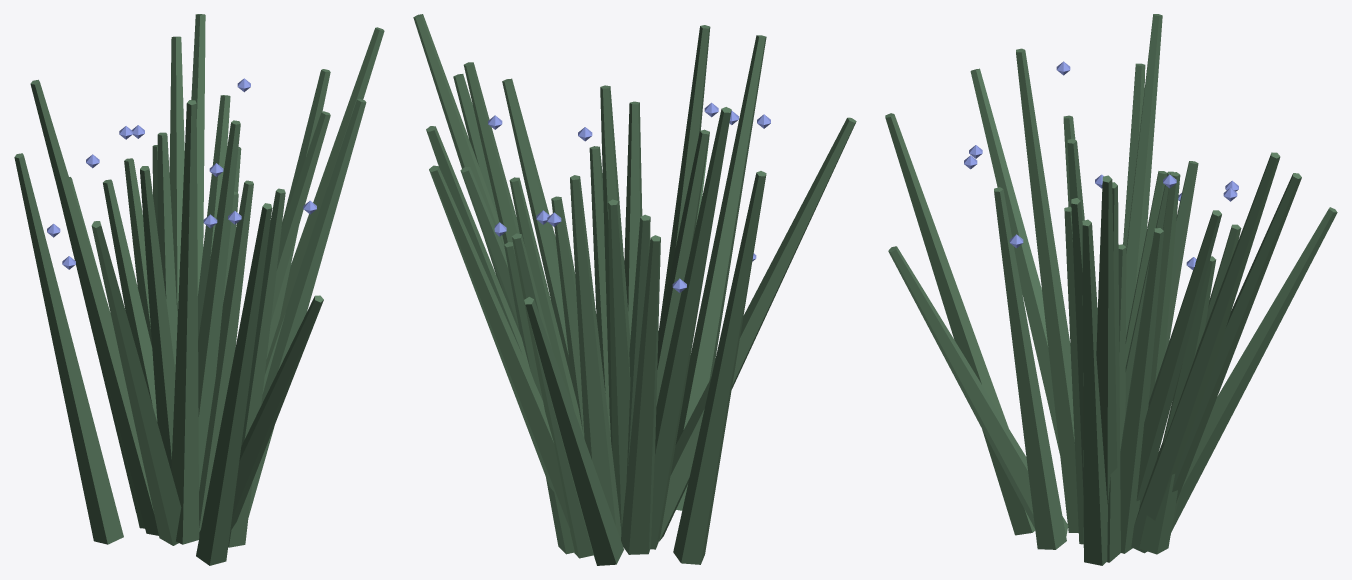
Rendered from rosemary.glb.
3 renders of one model, left to right at view 1: azimuth 30°, elevation 25°; view 2: azimuth 150°, elevation 25°; view 3: azimuth 270°, elevation 25°, orthographic. The views are drawn at different scales.
Visible parts, largest first — view 1: rosemary; view 2: rosemary; view 3: rosemary.
Part boxes in pixels (x1,y1,x2,y2): rosemary: (14,14,384,565); rosemary: (413,14,856,565); rosemary: (885,14,1337,565).
Bounding box in the file's own units: 0.6332 × 0.7948 × 0.6887.
